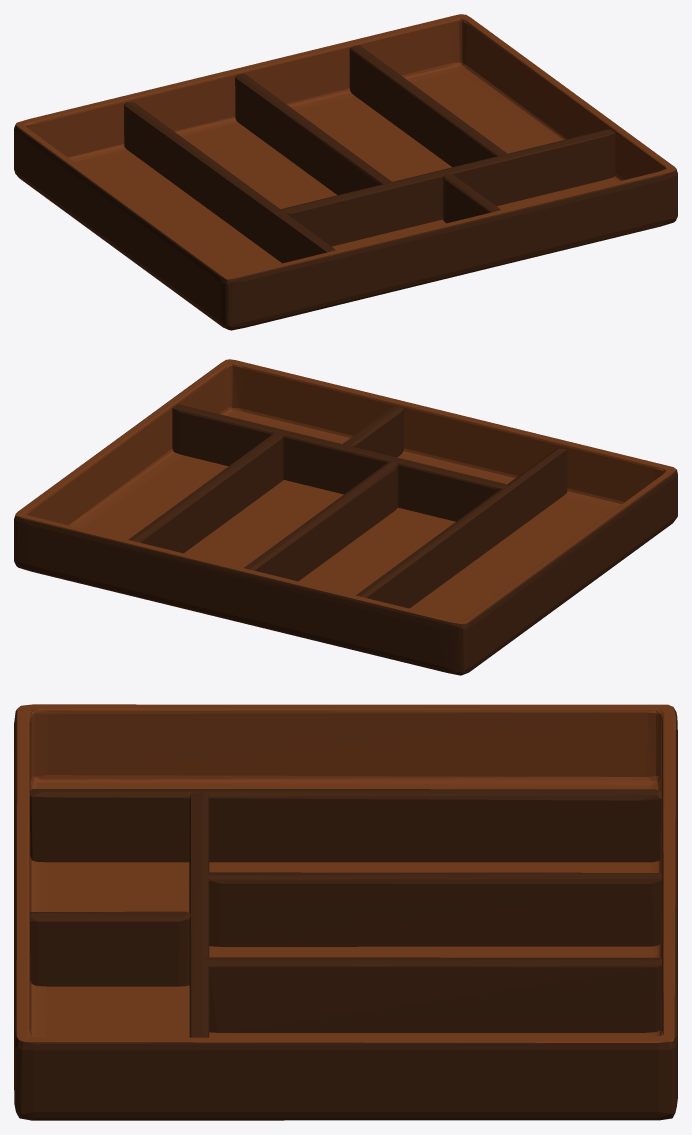
File: CutleryTray.fbx
The picture shows the model from 3 angles, top to bottom: view 1: azimuth 30°, elevation 25°; view 2: azimuth 150°, elevation 25°; view 3: azimuth 270°, elevation 25°; orthographic projection. The views are drawn at different scales.
Parts seen in each view (by area): view 1: CutleryTrayLowPoly; view 2: CutleryTrayLowPoly; view 3: CutleryTrayLowPoly.
Boxes of the visible parts, x1=… form: CutleryTrayLowPoly: x1=14, y1=14, x2=677, y2=330; CutleryTrayLowPoly: x1=14, y1=359, x2=677, y2=675; CutleryTrayLowPoly: x1=14, y1=704, x2=677, y2=1120.
Bounding box in the file's own units: 44 × 5 × 36.33.
